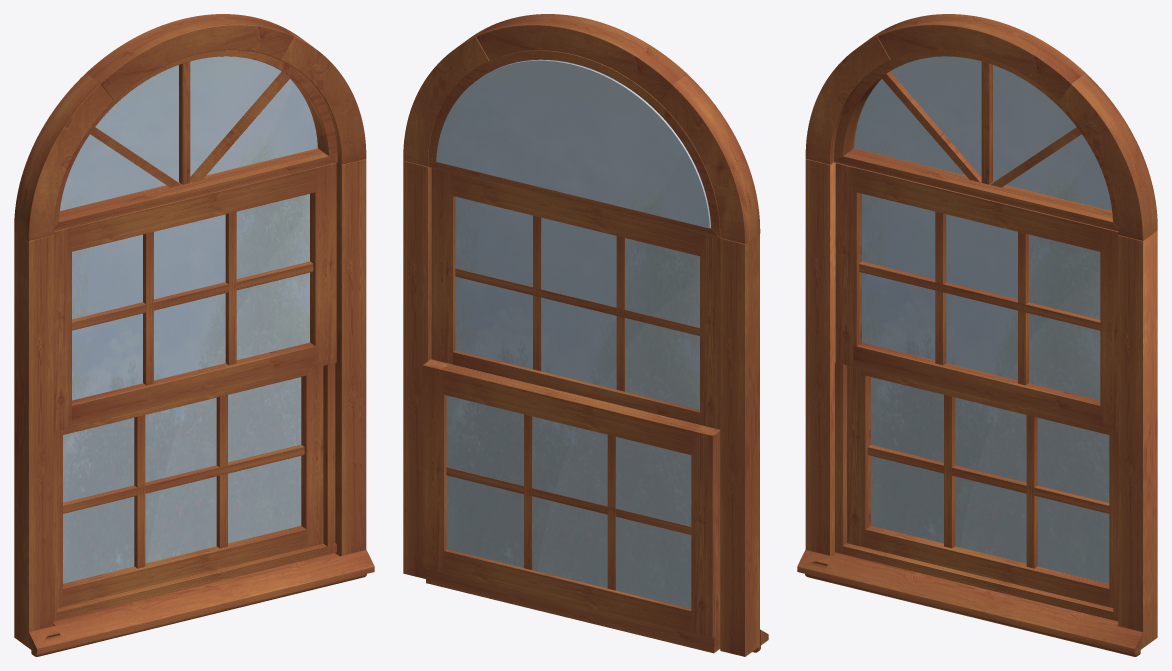
The picture shows the model from 3 angles, left to right: view 1: azimuth 30°, elevation 25°; view 2: azimuth 150°, elevation 25°; view 3: azimuth 330°, elevation 25°; orthographic projection.
Parts seen in each view (by area): view 1: glass, glass001, glass_arch, trim_left, trim_right, window_bottom, sill, trim_top, trim_top_left, window_bottom001, window_top001, window_right001 (+19 smaller); view 2: glass, glass001, glass_arch, trim_left, trim_right, window_bottom, window_top, trim_top, trim_top_left, window_left, window_top001, window_right (+12 smaller); view 3: glass001, glass, glass_arch, trim_right, trim_left, window_bottom, sill, trim_top, trim_top_right, window_bottom001, window_top001, window_left001 (+19 smaller).
Part boxes in pixels (x1,y1,x2,y2): glass: (63, 377, 301, 583); glass001: (72, 194, 309, 400); glass_arch: (60, 56, 317, 210); trim_left: (14, 231, 53, 647); trim_right: (335, 159, 366, 556); window_bottom: (53, 148, 337, 606); sill: (29, 550, 374, 654); trim_top: (86, 14, 294, 100); trim_top_left: (14, 73, 113, 240); window_bottom001: (68, 342, 318, 427); window_top001: (68, 168, 315, 251); window_right001: (310, 162, 336, 367); glass: (446, 395, 691, 608); glass001: (455, 197, 699, 409); glass_arch: (436, 59, 710, 228); trim_left: (720, 234, 759, 656); trim_right: (403, 161, 431, 578); window_bottom: (429, 162, 719, 632); window_top: (441, 363, 702, 454); trim_top: (476, 14, 686, 101); trim_top_left: (659, 74, 760, 244); window_left: (691, 425, 720, 637); window_top001: (453, 173, 703, 256); window_right: (422, 359, 448, 572); glass001: (862, 194, 1100, 400); glass: (871, 377, 1109, 583); glass_arch: (854, 56, 1111, 210); trim_right: (1118, 231, 1157, 647); trim_left: (805, 159, 836, 556); window_bottom: (834, 148, 1118, 606); sill: (797, 550, 1142, 654); trim_top: (877, 14, 1085, 100); trim_top_right: (1058, 73, 1157, 240); window_bottom001: (853, 342, 1103, 427); window_top001: (853, 168, 1103, 252); window_left001: (835, 162, 861, 367).
Size of the model in its own units: 35.87 by 59.43 by 5.4.
Materials: 7 (7 with a texture image).
